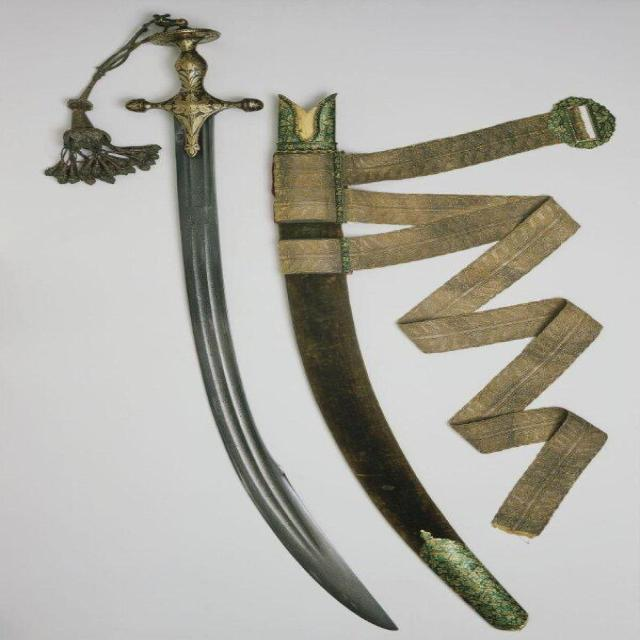weapon: (114, 16, 401, 638)
